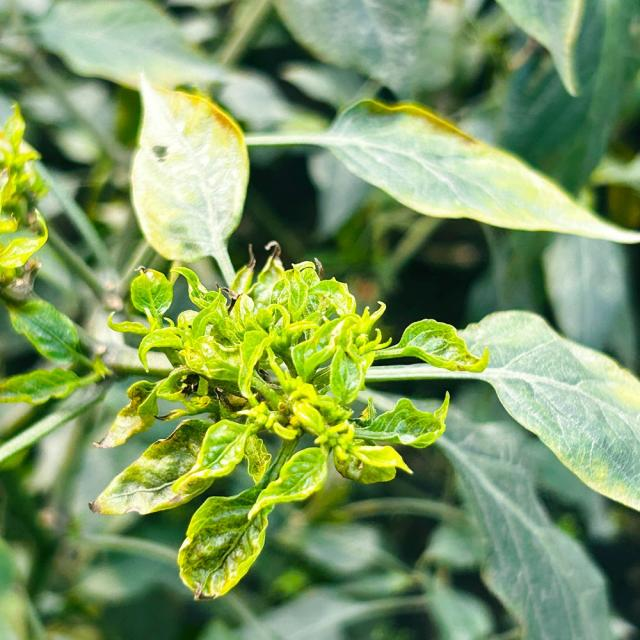Chilli_Leaf_Curl: (1, 1, 638, 635), (89, 240, 488, 602), (359, 308, 639, 512), (321, 96, 638, 244), (128, 72, 251, 286), (0, 100, 49, 285)
